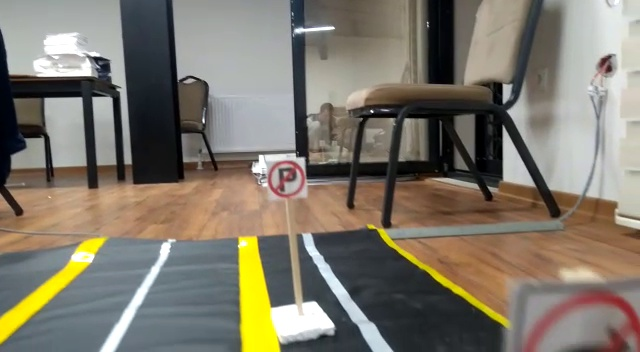park_yapilmaz: (268, 156, 308, 199)
